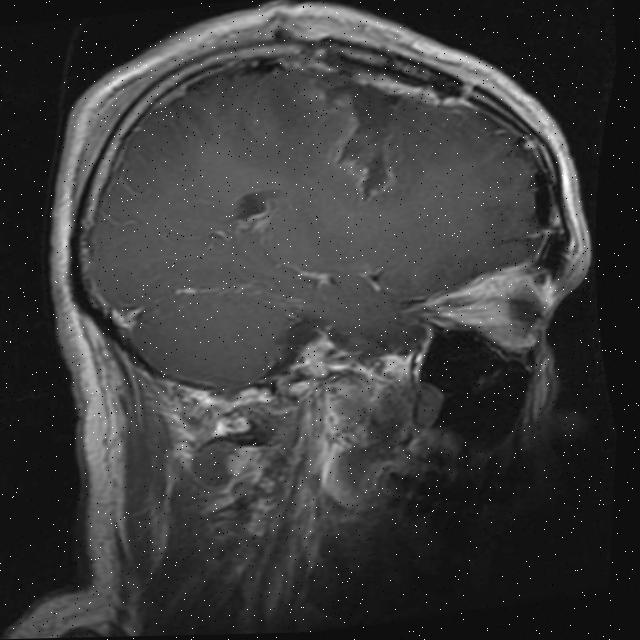Glioma: (315, 69, 413, 209)
